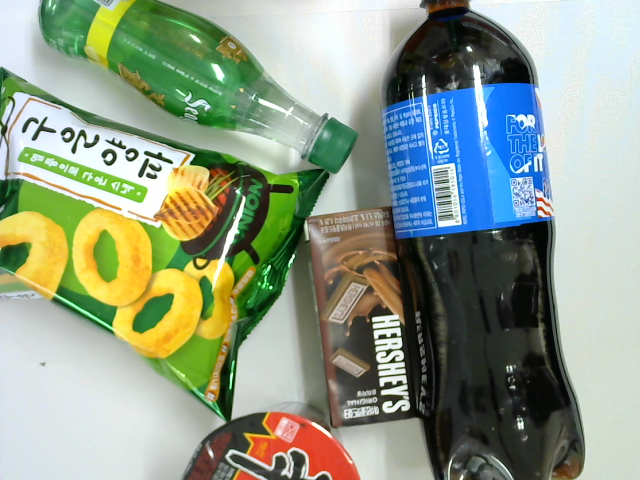Grilled_Onions: (1, 66, 331, 423)
Hush_Choco_Drink: (303, 203, 423, 422)
Pepsi_Cola_1.5L: (382, 1, 587, 479)
Seagram_Lemon_Carbonated_Water: (36, 1, 358, 177)
Sinramen_small: (178, 401, 362, 480)
